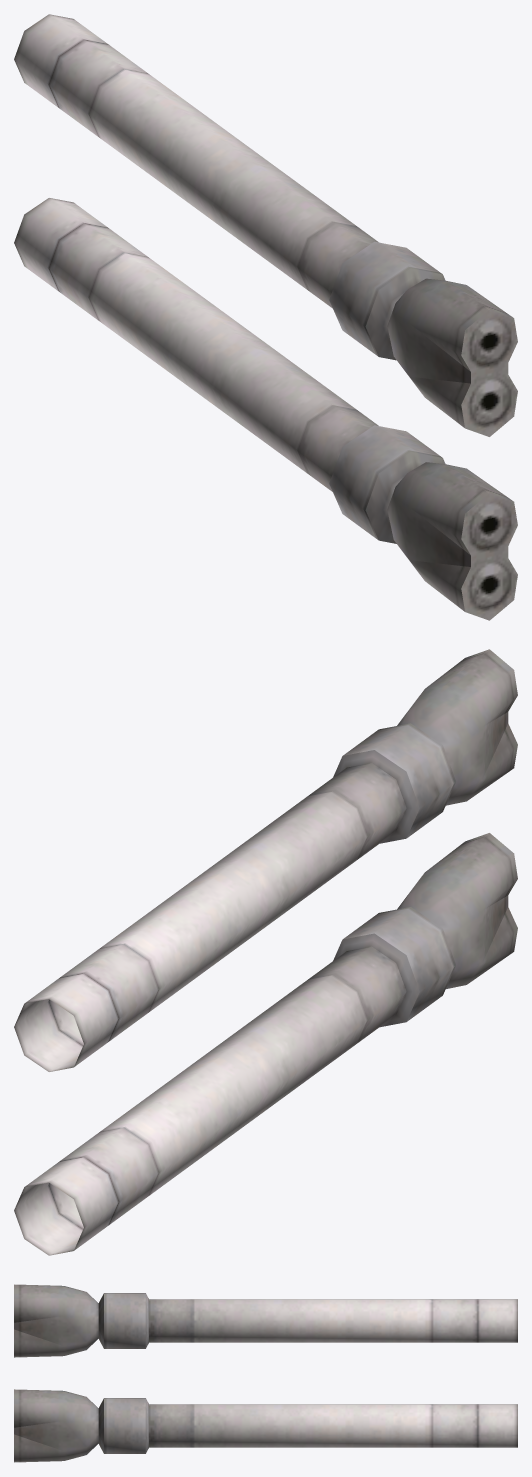
Rendered from yt1300_turret_barrel_s01_l0.fbx.
The picture shows the model from 3 angles, top to bottom: view 1: azimuth 30°, elevation 25°; view 2: azimuth 150°, elevation 25°; view 3: azimuth 270°, elevation 25°; orthographic projection. The views are drawn at different scales.
Parts seen in each view (by area): view 1: mesh_node; view 2: mesh_node; view 3: mesh_node.
Boxes of the visible parts, box(x1,y1,x2,y2) form: mesh_node: box(14, 14, 517, 620); mesh_node: box(14, 649, 517, 1255); mesh_node: box(14, 1284, 517, 1462).
Size of the model in its own units: 0.201 by 0.6596 by 1.69.
Materials: 1 (1 with a texture image).
